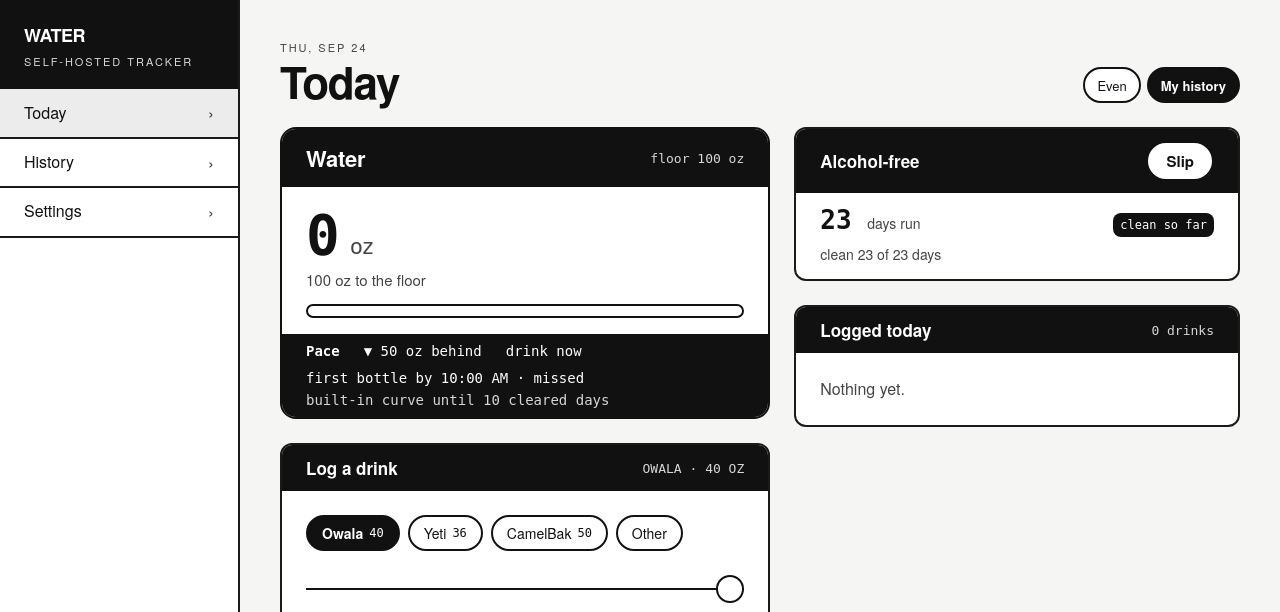
Test: Vices on Today › Slip → chip logs it now, with the undo bar; Undo takes it back through the delete path
Expected: the text "clean 23 of 23 days" is shown, [820,244,941,264]
Expected: the text "23" is shown, [820,205,852,235]
Step 1. Click the button with aria-label "Slip: Alcohol" → x=1180, y=161, box [1146,141,1214,181]
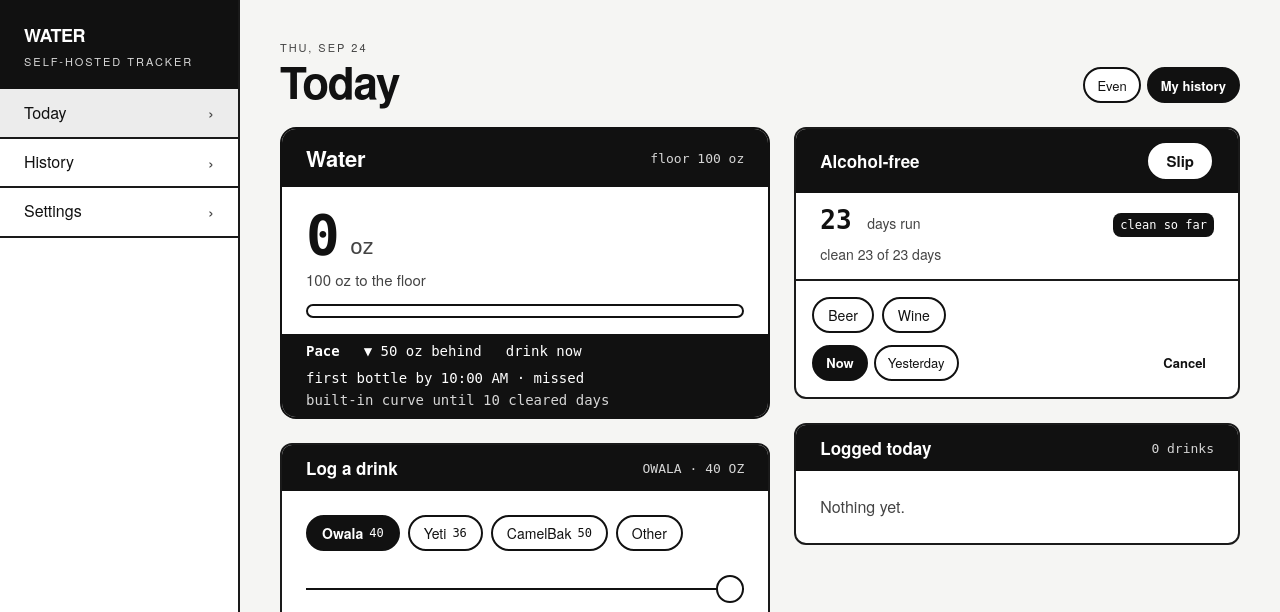
Step 2. Click the button "Beer" → x=843, y=315, box [812,297,874,333]
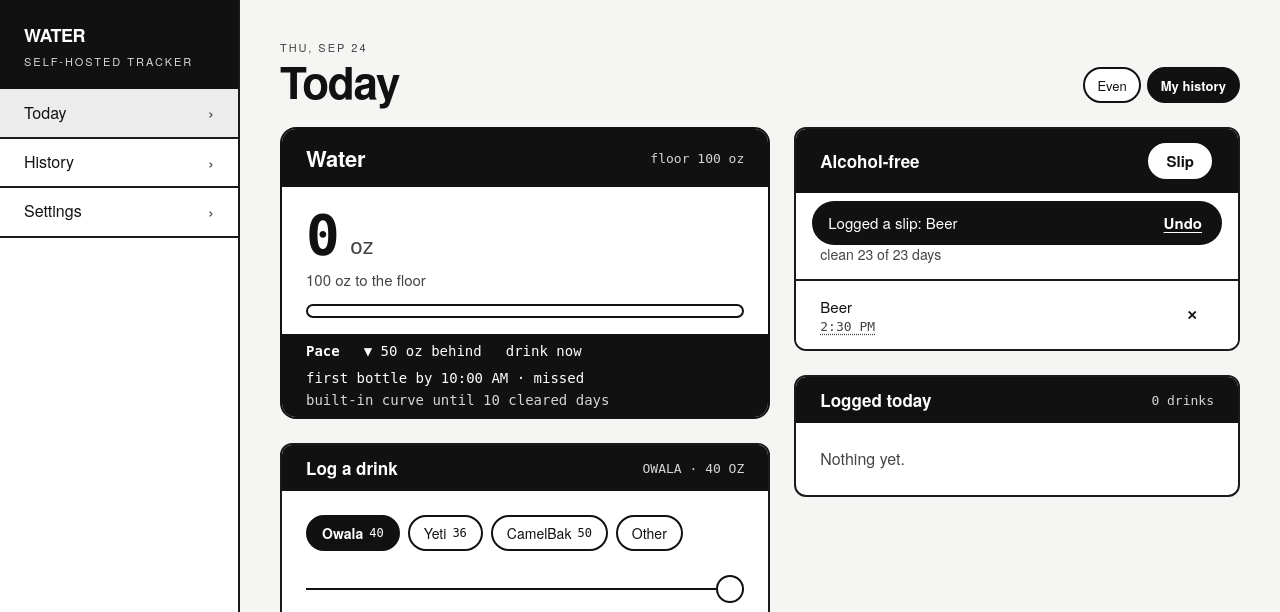
Result: the text "1 slip today" is shown at [1113,213,1214,237]
Result: the text "0" is shown at [820,205,836,235]
Result: the message with class "undo-bar" reads "Logged a slip: Beer Undo" at [812,201,1222,245]
Step 3. Click the button "Undo" → x=1183, y=223, box [1148,201,1218,245]
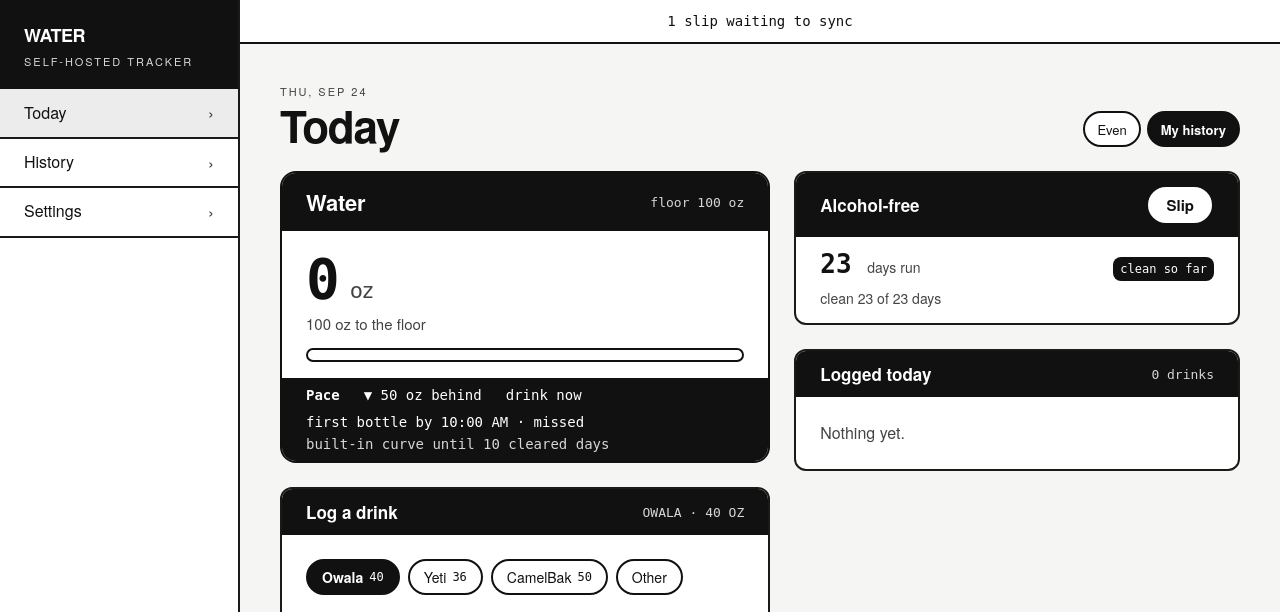
Result: the text "clean so far" is shown at [1113,257,1214,281]
